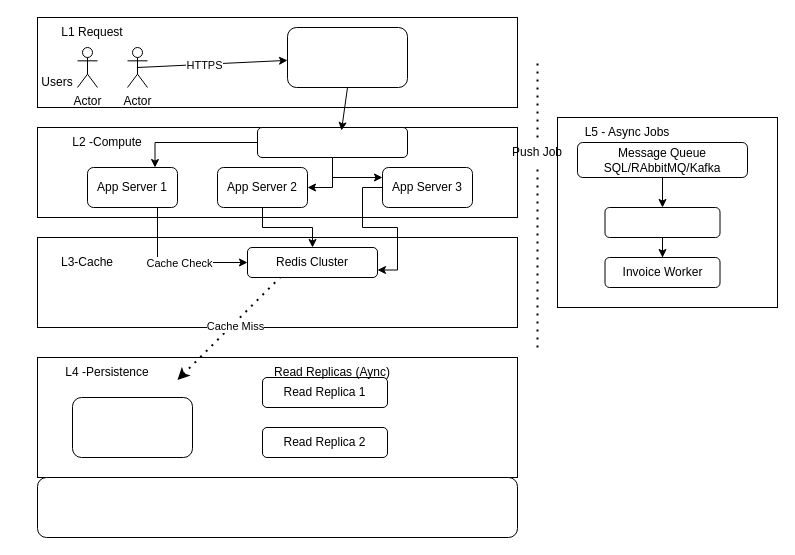
Image size: 795x555. Some labels were removed from this diagram. The shapes that lost their labels are listed below. From the top down, each one's centre as x and y in pixels, then its label:
pixel 347 57: CDN (Edge Location)
pixel 332 142: Load Balancer (Round Robin)
pixel 662 222: Email Worker
pixel 132 427: Primary DB (write)
pixel 277 507: Idempotency Key Implemented at API Level
